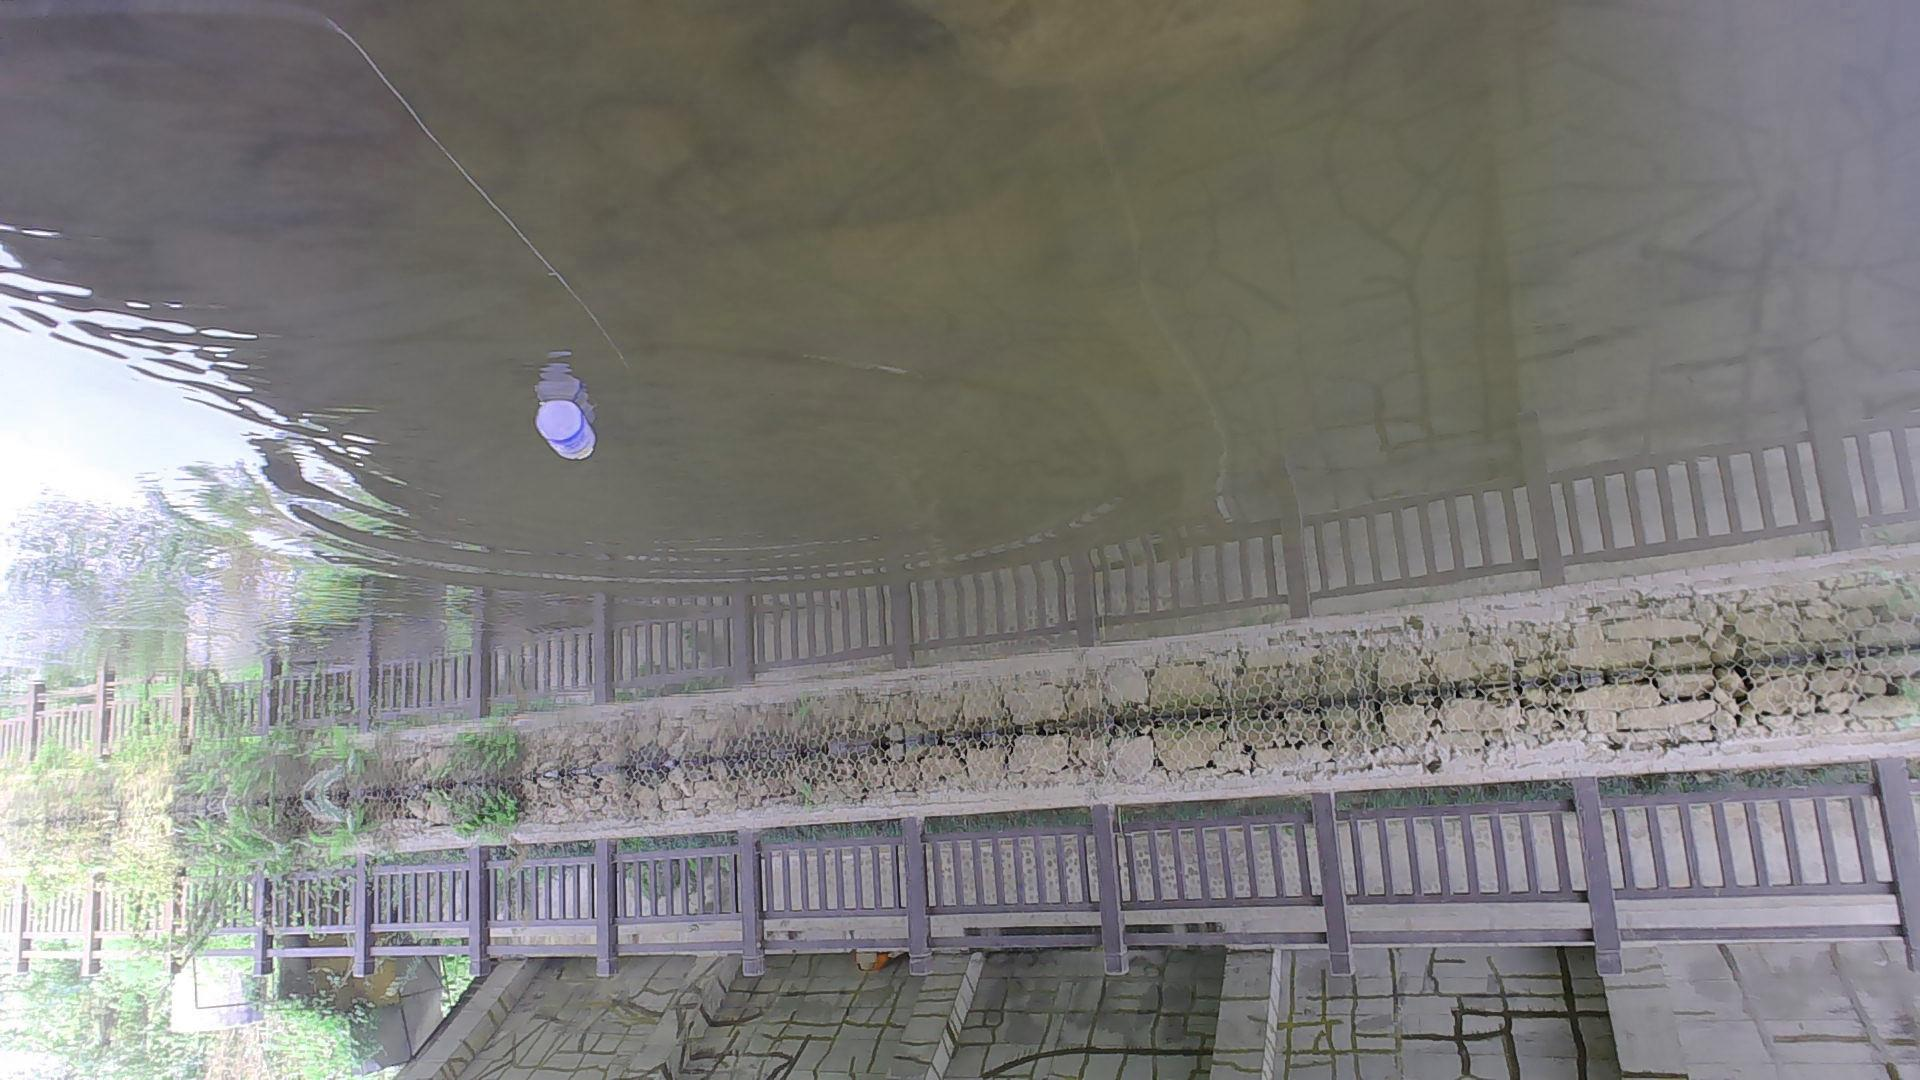Plastic: (531, 400, 597, 477)
